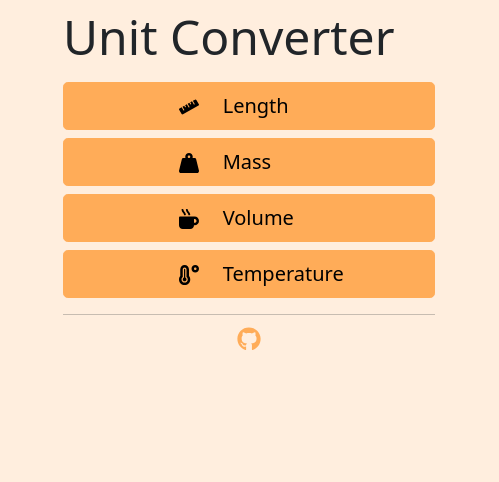
Test: typing `-123567.8` renders as `-123,567.8` correctly
Click the button "Length": (249, 106) [63,82,435,130]
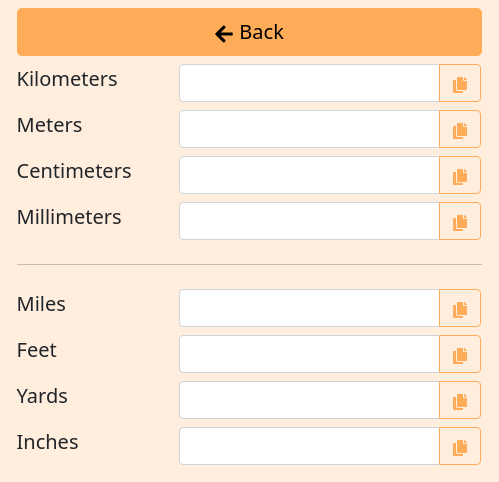
In the field labelled "Kilometers": (310, 83) [180,64,440,102], type "-123567.8"
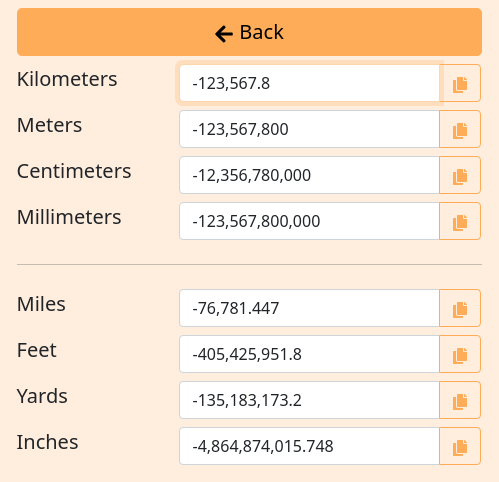
expect the field labelled "Kilometers" holds "-123,567.8": met, box [180,64,440,102]
